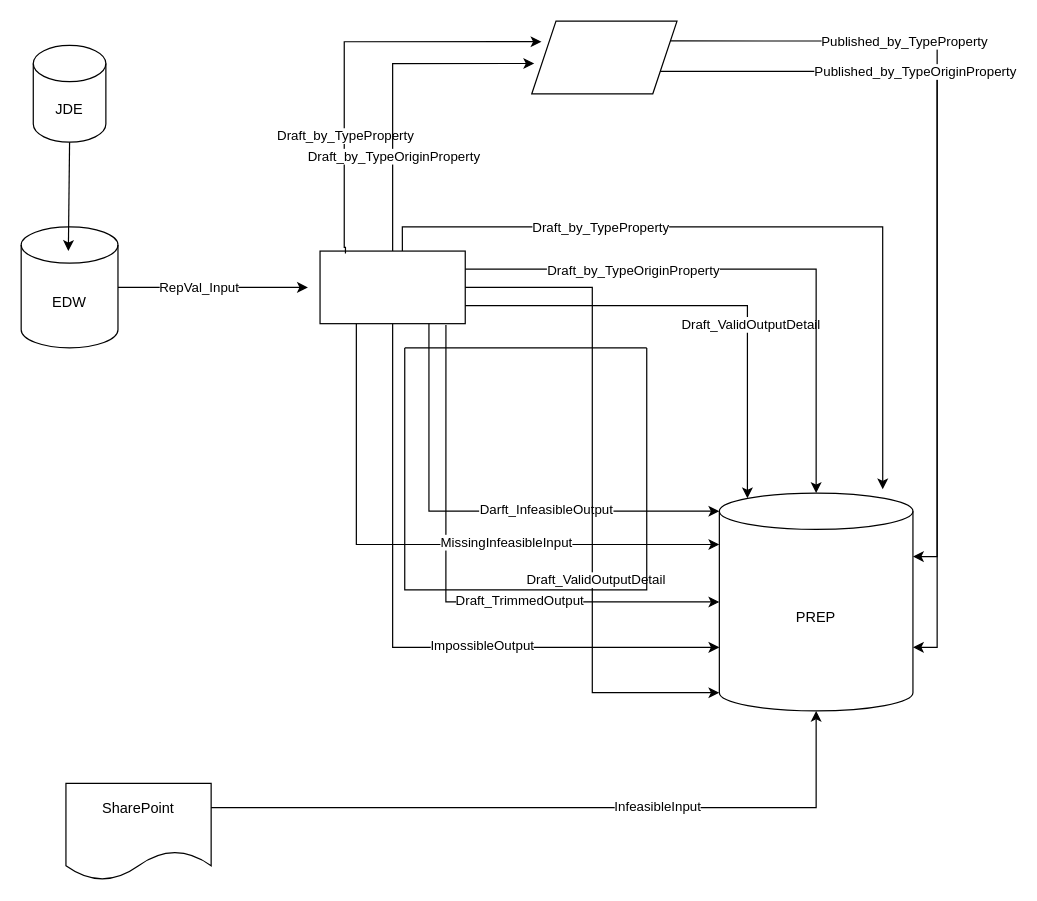
This 1037x901 diagram has some shape labels left out. The box of each missing label's shape, as (x1, y1, x2, y2) in pixels:
PrepFlow: (319, 250, 465, 324)
Validation: (531, 20, 677, 94)
